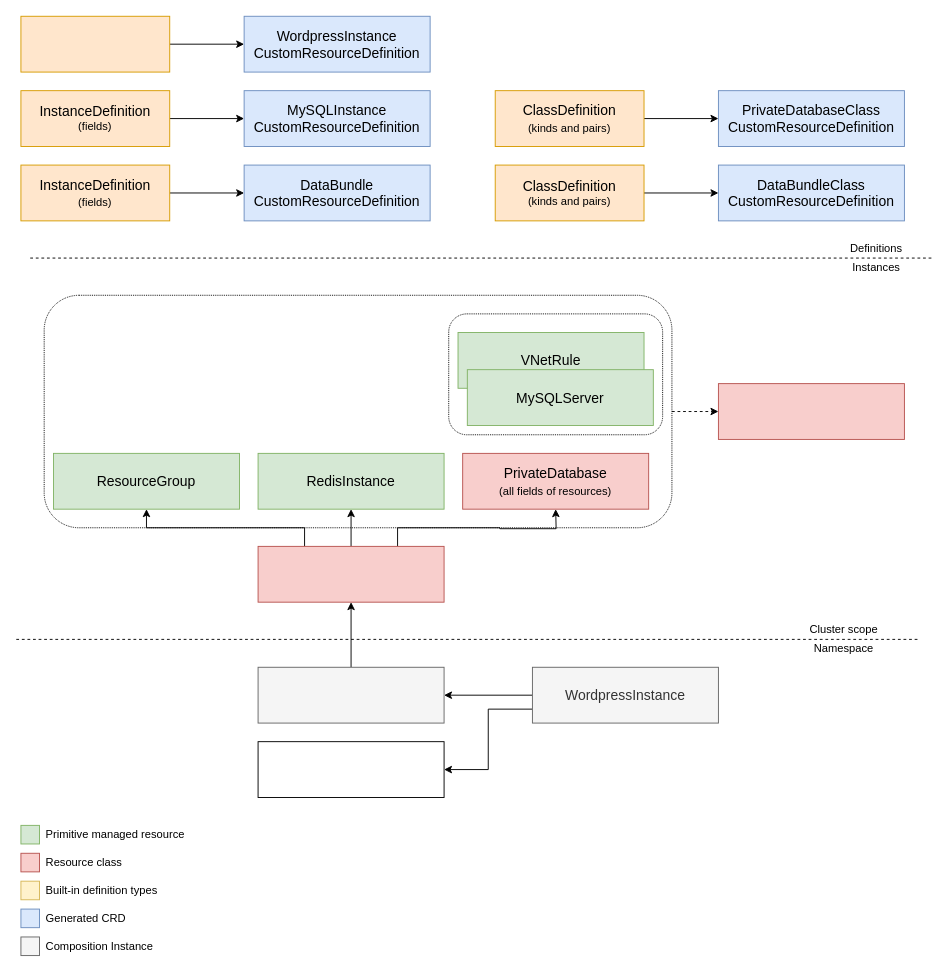
This 950x972 diagram has some shape labels left out. The centre of each missing label's shape, as x and y in pixels:
"ApplicationDefinition (fields, kinds and pairs)" belongs at [95,43].
"DataBundle (all fields of resources)" belongs at [350,573].
"DataBundleClass (all fields of resources)" belongs at [810,411].
"DataBundleInstance (few fields)" belongs at [350,694].
"KubernetesApplication" belongs at [350,769].
